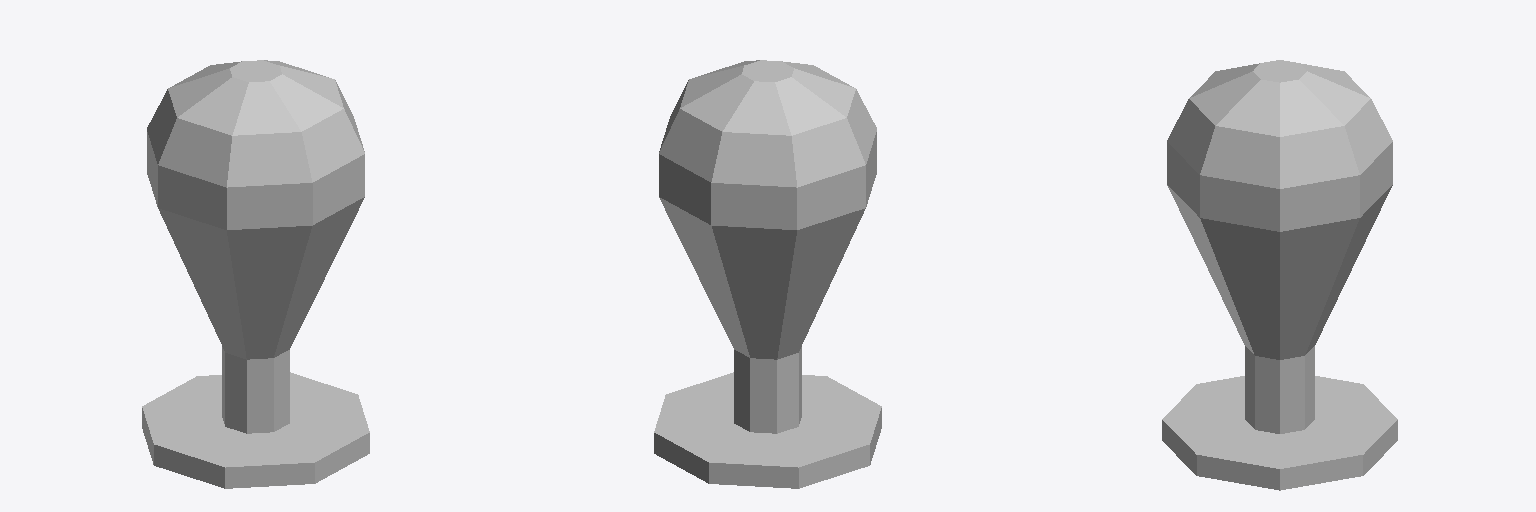
File: tempPlayer.obj
3 renders of one model, left to right at view 1: azimuth 30°, elevation 25°; view 2: azimuth 150°, elevation 25°; view 3: azimuth 270°, elevation 25°, orthographic.
Visible parts, largest first — view 1: Circle; view 2: Circle; view 3: Circle.
Part boxes in pixels (x1,y1,x2,y2): Circle: (142,60,369,488); Circle: (654,60,881,488); Circle: (1162,60,1397,490).
Size of the model in its own units: 1 by 1.73 by 1.